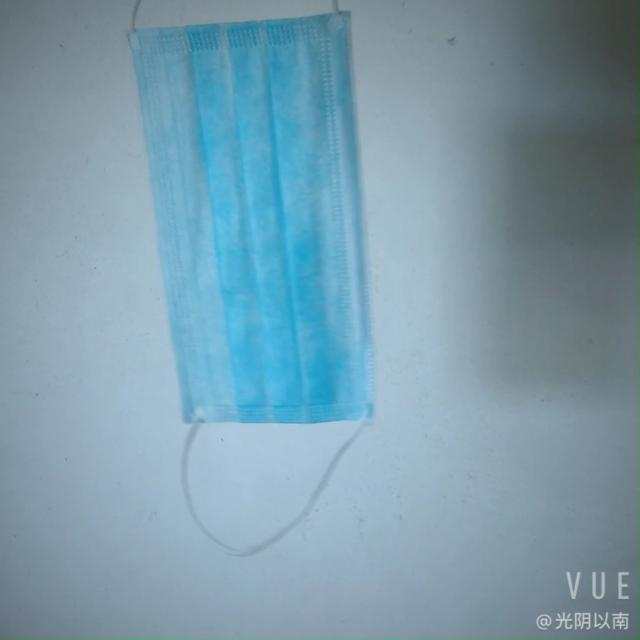face mask: (121, 16, 387, 443)
